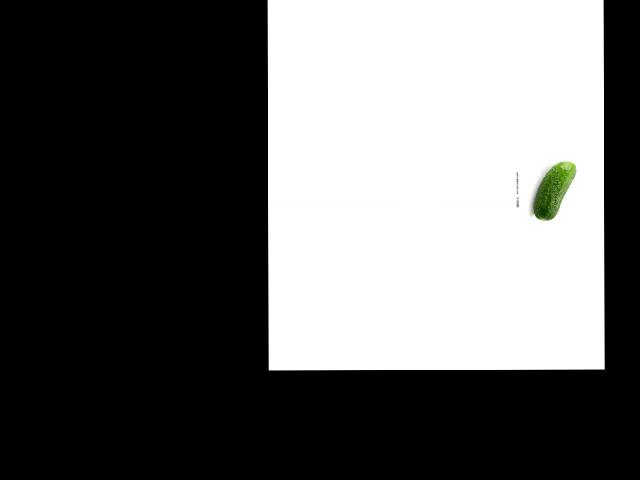cucumber: (532, 161, 576, 220)
